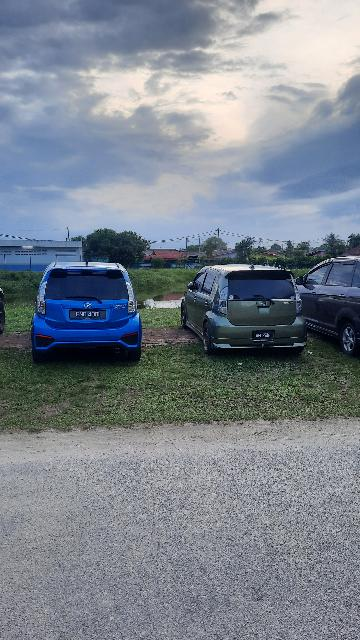License_Plate: (68, 309, 109, 323), (255, 331, 277, 343)
car: (180, 261, 309, 359), (29, 261, 145, 365)
